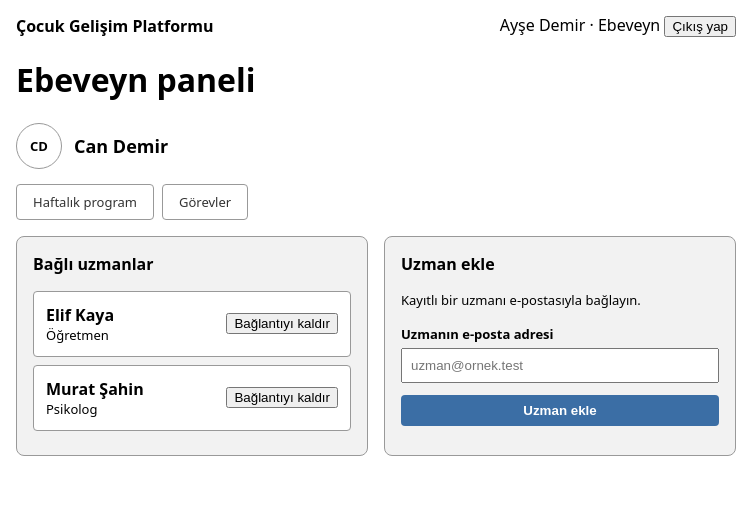
Test case: ParentDashboard › link form › shows a Turkish error when the server fails
Type "coach@demo.test" into the field labelled "Uzmanın e-posta adresi" at (560, 365), box [401,348,719,383]
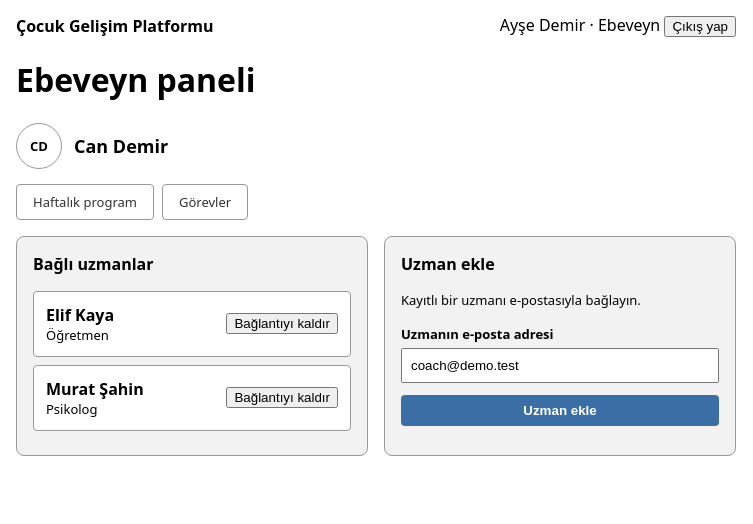
Click the button "Uzman ekle" at (560, 410), box [401,395,719,426]
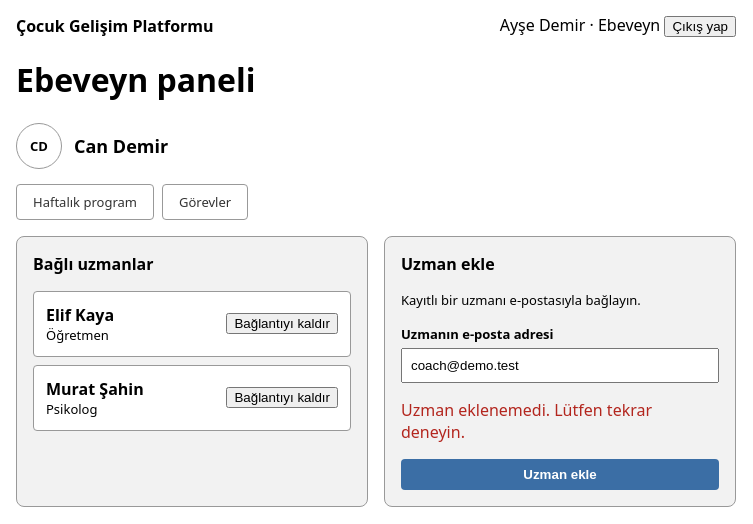
expect the message reads "Uzman eklenemedi. Lütfen tekrar deneyin.": met, box [401,399,652,443]
